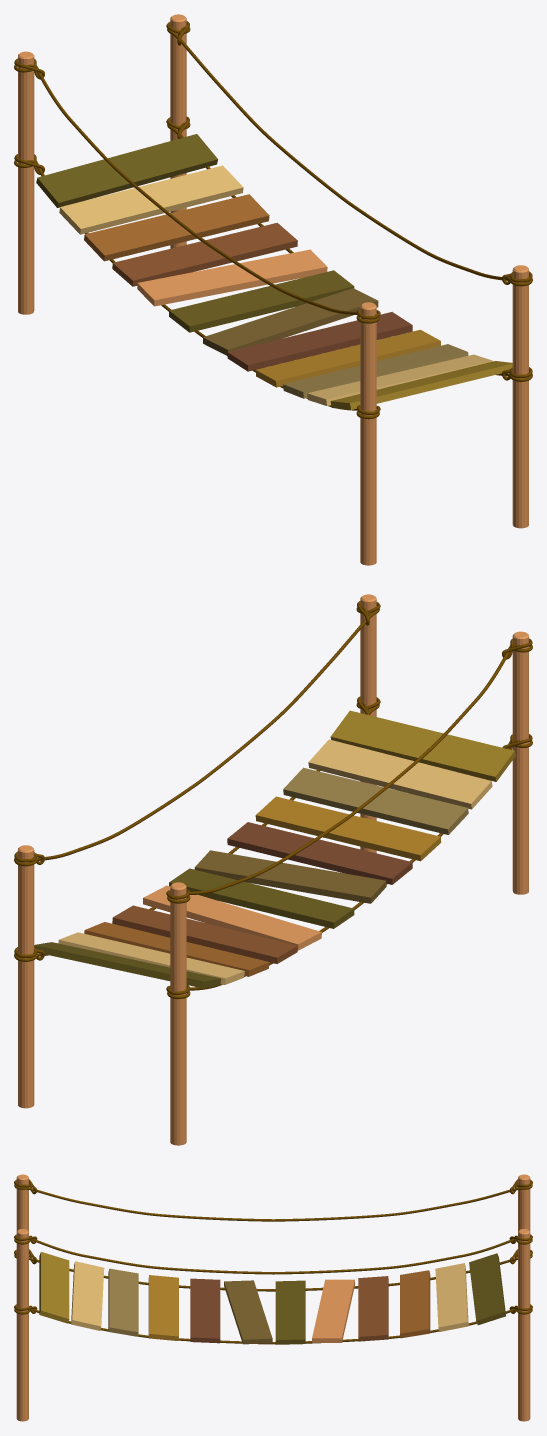
File: bridge2.fbx
3 views of the same model, one above another, from view 1: azimuth 30°, elevation 25°; view 2: azimuth 150°, elevation 25°; view 3: azimuth 270°, elevation 25° (orthographic). The views are drawn at different scales.
Visible parts, largest first — view 1: Cylinder, Cube.001, Cube.002, Cube.003, Cube.004, Cube.005, Cube.006, BezierCurve, Cube.007, Cube.008, Cube.009, Cube.010 (+3 smaller); view 2: Cylinder, Cube.012, Cube.011, Cube.010, Cube.009, Cube.008, Cube.007, BezierCurve, Cube.006, Cube.004, Cube.005, Cube.003 (+3 smaller); view 3: Cylinder, BezierCurve, Cube.007, Cube.005, Cube.001, Cube.002, Cube.006, Cube.011, Cube.008, Cube.004, Cube.003, Cube.010 (+3 smaller).
Part boxes in pixels (x1=…): Cylinder: x1=18, y1=14, x2=528, y2=565; Cube.001: x1=36, y1=134, x2=217, y2=207; Cube.002: x1=59, y1=165, x2=243, y2=234; Cube.003: x1=84, y1=194, x2=269, y2=261; Cube.004: x1=112, y1=222, x2=297, y2=286; Cube.005: x1=137, y1=249, x2=327, y2=306; Cube.006: x1=169, y1=270, x2=354, y2=332; BezierCurve: x1=14, y1=21, x2=532, y2=323; Cube.007: x1=203, y1=288, x2=378, y2=355; Cube.008: x1=227, y1=312, x2=412, y2=371; Cube.009: x1=255, y1=329, x2=440, y2=387; Cube.010: x1=283, y1=344, x2=468, y2=398; Cylinder: x1=18, y1=594, x2=528, y2=1145; Cube.012: x1=330, y1=710, x2=515, y2=781; Cube.011: x1=308, y1=739, x2=492, y2=809; Cube.010: x1=283, y1=767, x2=468, y2=834; Cube.009: x1=255, y1=796, x2=441, y2=861; Cube.008: x1=227, y1=822, x2=412, y2=884; Cube.007: x1=194, y1=850, x2=386, y2=903; BezierCurve: x1=14, y1=601, x2=532, y2=903; Cube.006: x1=169, y1=868, x2=354, y2=928; Cube.004: x1=112, y1=905, x2=297, y2=963; Cube.005: x1=143, y1=885, x2=321, y2=950; Cube.003: x1=84, y1=922, x2=269, y2=976; Cylinder: x1=16, y1=1174, x2=530, y2=1421; BezierCurve: x1=14, y1=1179, x2=532, y2=1274; Cube.007: x1=224, y1=1280, x2=272, y2=1344; Cube.005: x1=312, y1=1279, x2=355, y2=1342; Cube.001: x1=469, y1=1253, x2=505, y2=1325; Cube.002: x1=435, y1=1263, x2=468, y2=1331; Cube.006: x1=275, y1=1280, x2=305, y2=1344; Cube.011: x1=71, y1=1261, x2=104, y2=1330; Cube.008: x1=190, y1=1278, x2=220, y2=1343; Cube.004: x1=358, y1=1276, x2=388, y2=1341; Cube.003: x1=400, y1=1270, x2=430, y2=1338; Cube.010: x1=108, y1=1268, x2=138, y2=1336.
Size of the model in its own units: 235 by 332 by 830.
